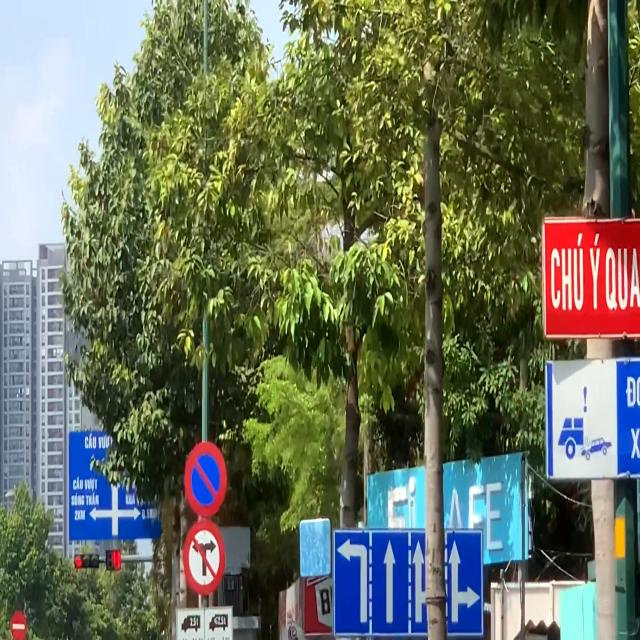P.102: (10, 606, 27, 640)
P.131a: (181, 435, 229, 519)
P.137: (181, 519, 230, 593)
